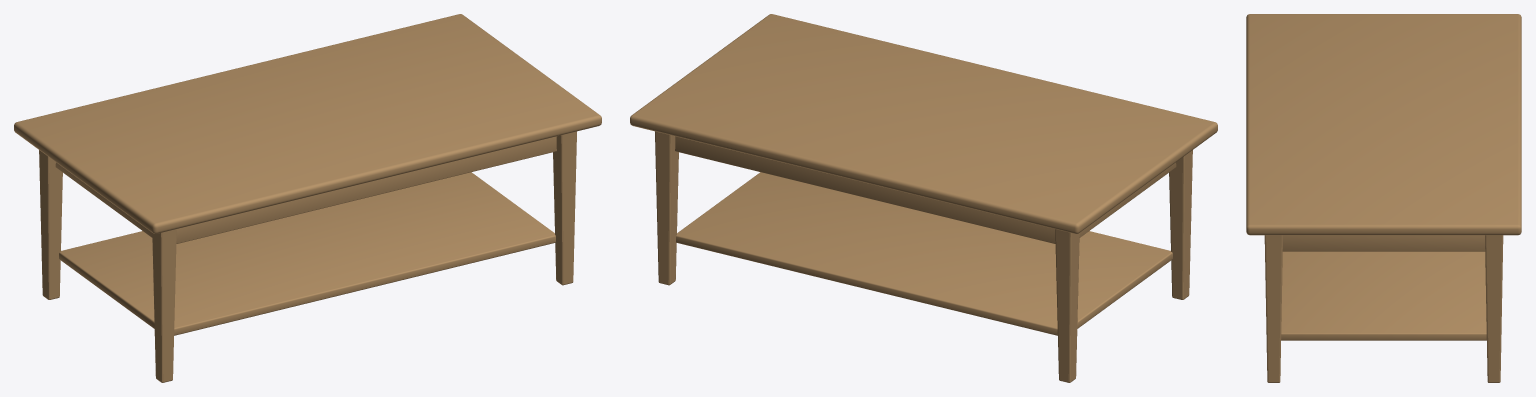
Rendered from mesa-centro.glb.
3 views of the same model, side by side, from view 1: azimuth 30°, elevation 25°; view 2: azimuth 150°, elevation 25°; view 3: azimuth 270°, elevation 25° (orthographic). The views are drawn at different scales.
Visible parts, largest first — view 1: Tablero.003, Balda, Faldón.001, Pata.013, Pata.015, Pata.014; view 2: Tablero.003, Balda, Faldón.001, Pata.014, Pata.016, Pata.013; view 3: Tablero.003, Balda, Faldón.001, Pata.015, Pata.016.
Part boxes in pixels (x1,y1,x2,y2): Tablero.003: (14,14,601,233); Balda: (59,172,555,335); Faldón.001: (55,136,556,243); Pata.013: (152,229,176,382); Pata.015: (553,131,576,285); Pata.014: (39,150,62,299); Tablero.003: (630,14,1217,233); Balda: (676,172,1172,335); Faldón.001: (675,136,1176,243); Pata.014: (1055,229,1079,382); Pata.016: (655,131,678,285); Pata.013: (1169,150,1192,299); Tablero.003: (1246,14,1521,235); Balda: (1281,251,1486,340); Faldón.001: (1282,235,1485,251); Pata.015: (1264,235,1282,382); Pata.016: (1485,235,1503,382).
Bounding box in the file's own units: 1.1 × 0.4 × 0.6.
